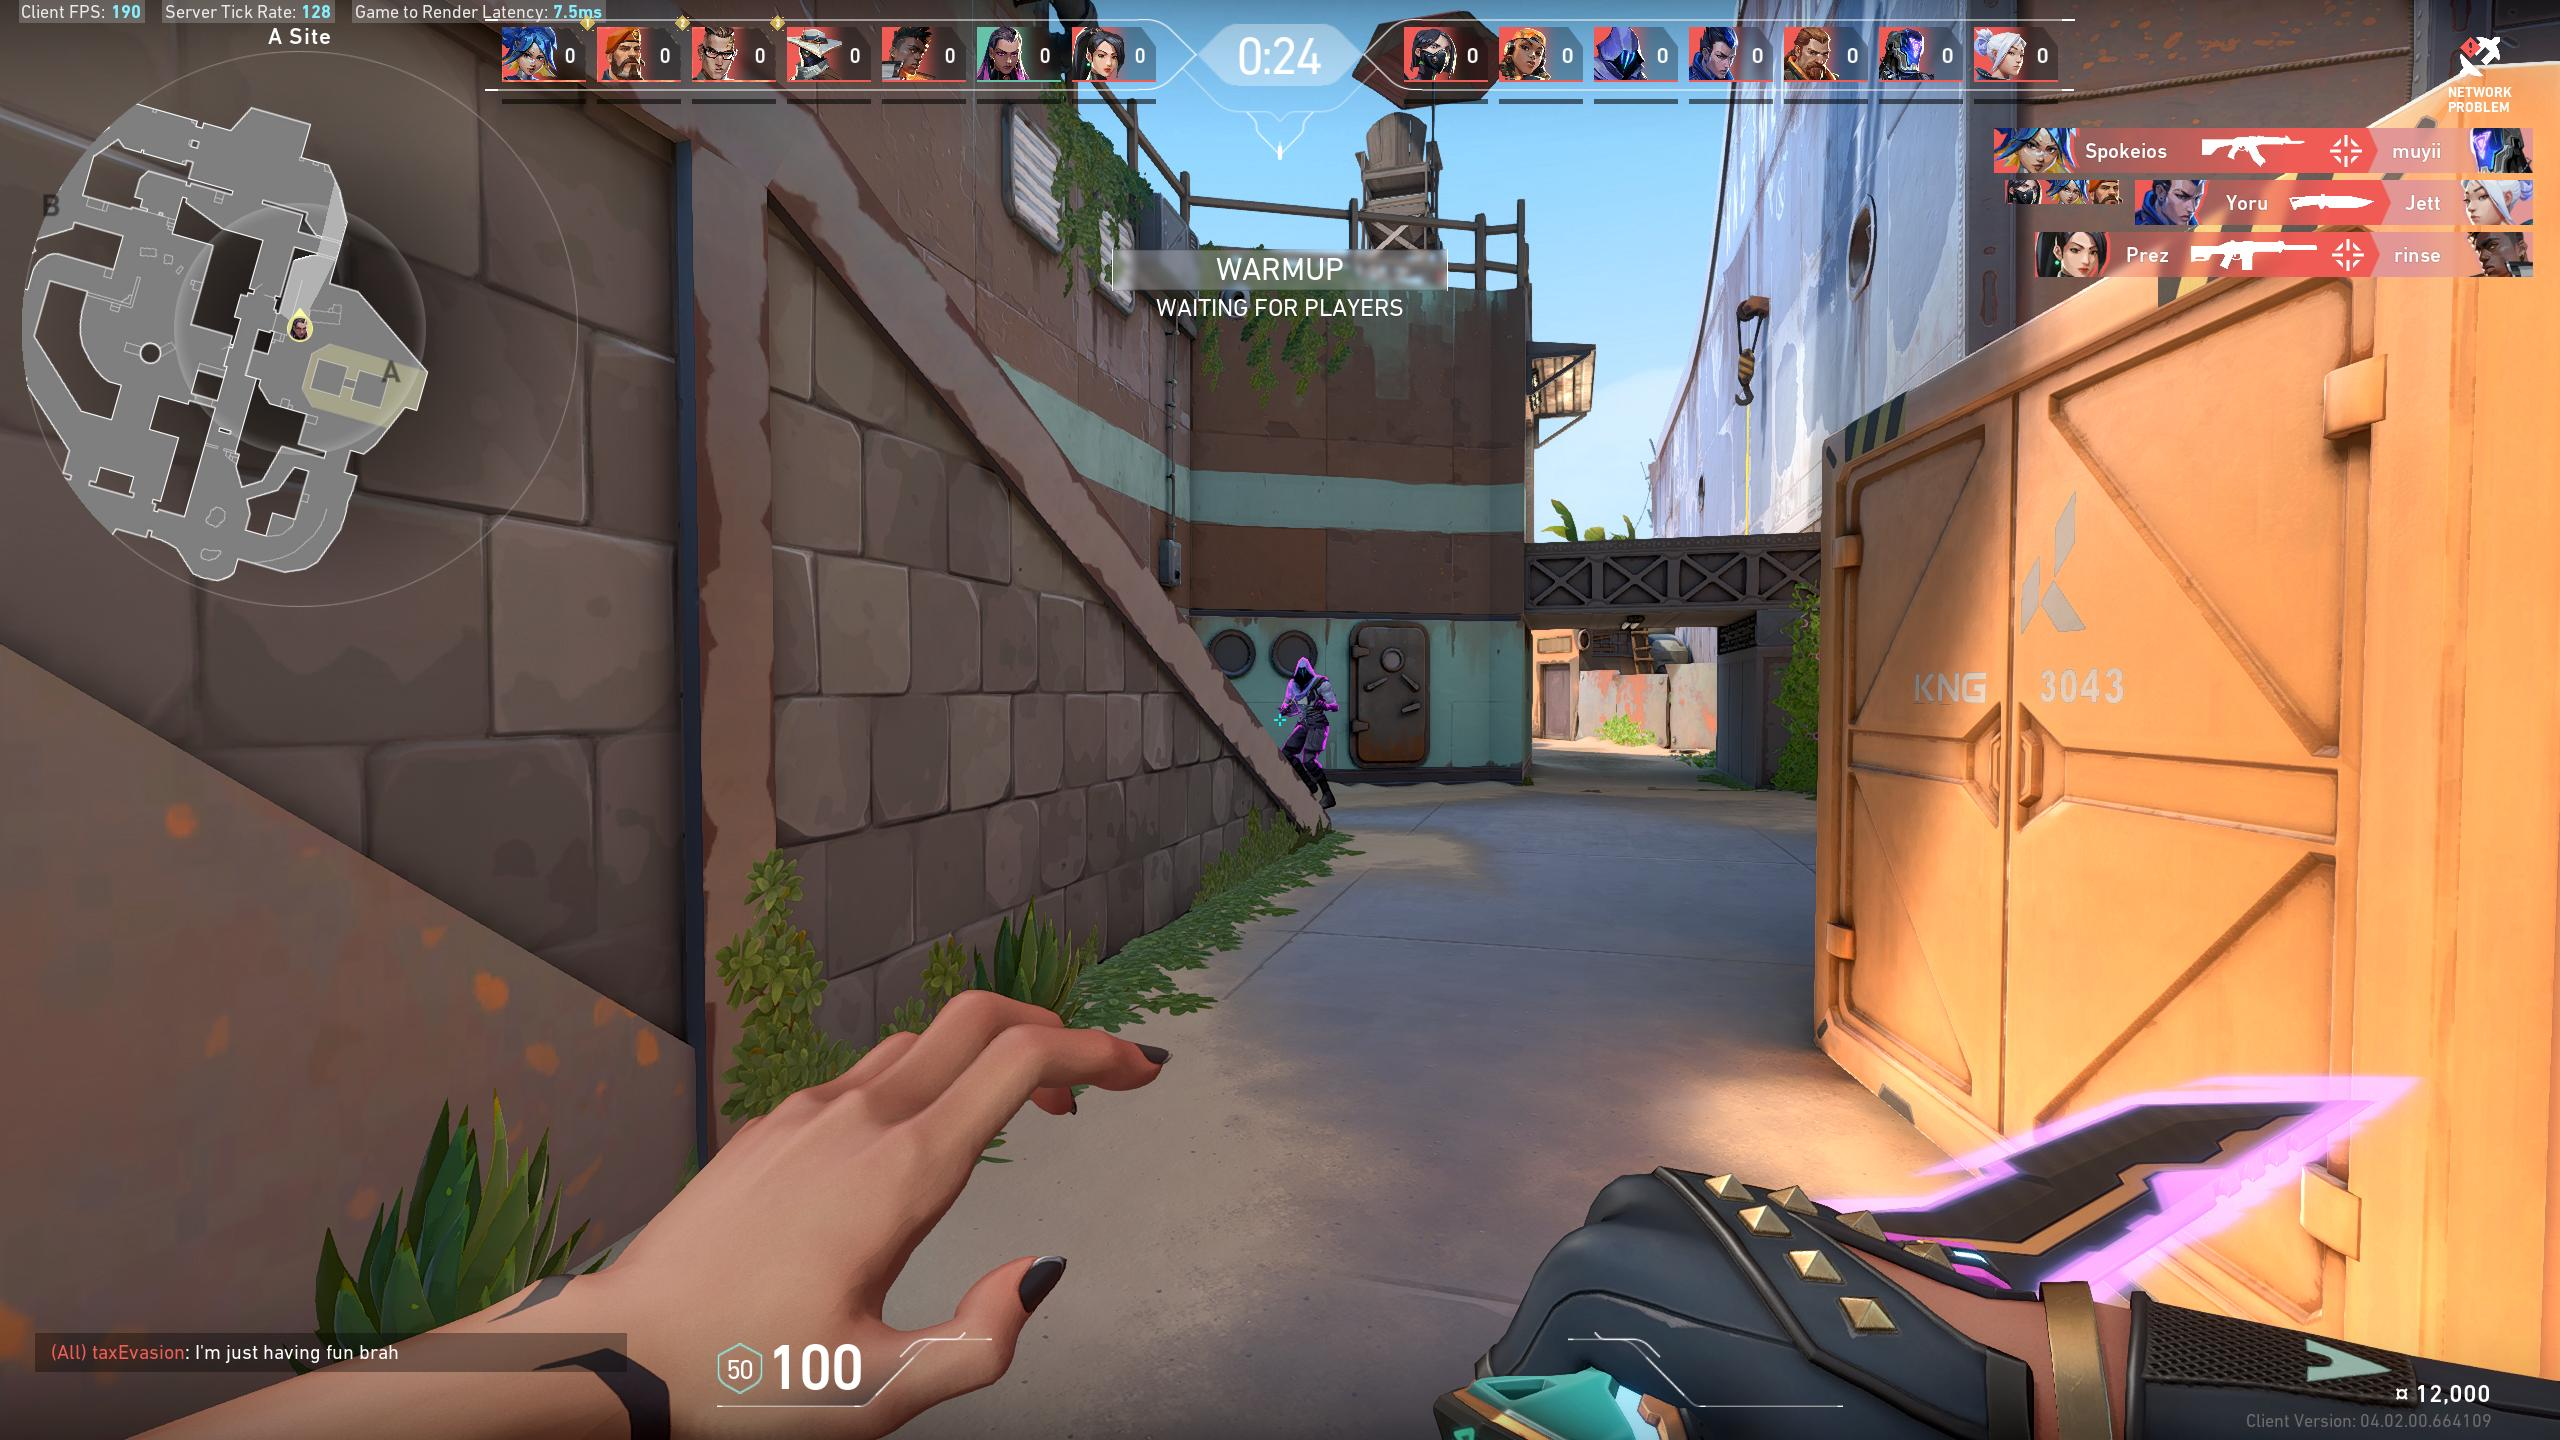enemyBody: (1299, 687, 1319, 719)
enemyHead: (1298, 666, 1310, 680)
